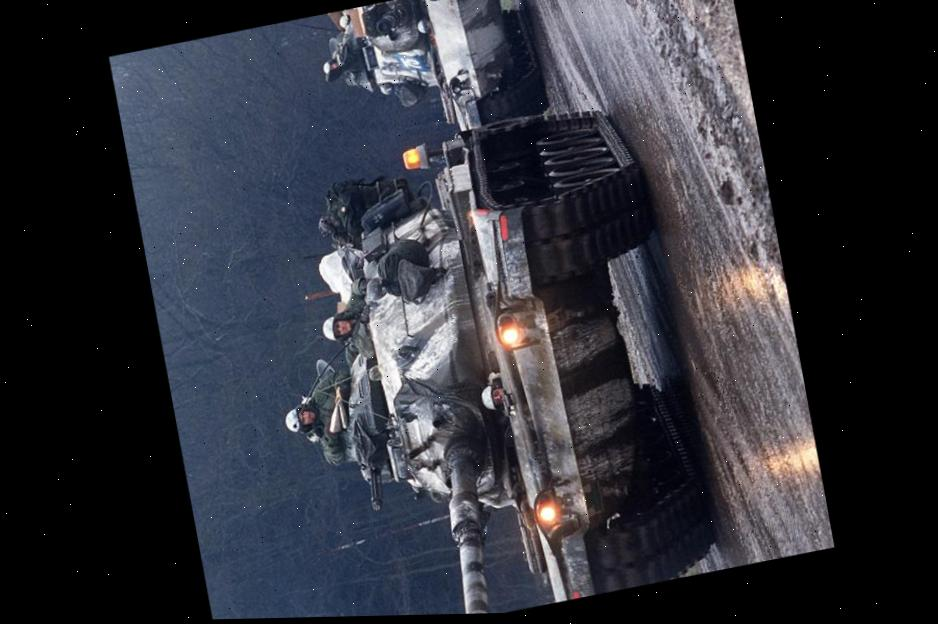tank: (294, 89, 728, 617), (348, 0, 559, 160)
